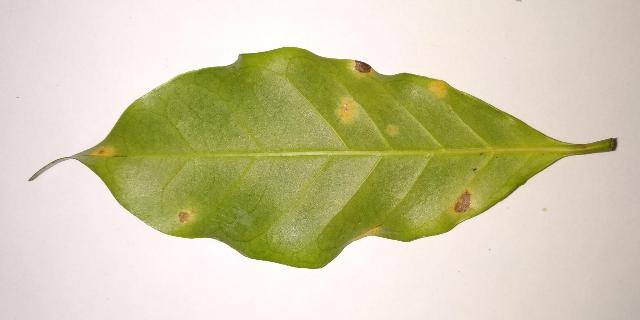miner: (448, 187, 476, 216), (337, 98, 359, 123), (349, 60, 375, 77), (352, 227, 381, 241), (428, 79, 448, 97), (92, 145, 115, 157), (178, 209, 194, 224), (388, 126, 397, 134)
